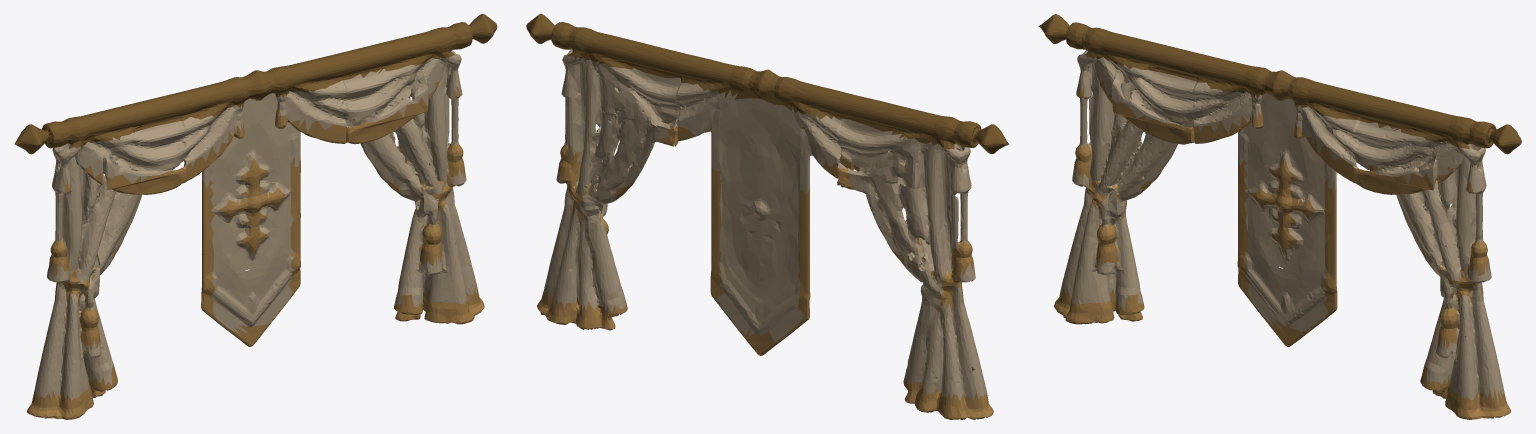
The model's file is cortina_branca.glb.
3 renders of one model, left to right at view 1: azimuth 30°, elevation 25°; view 2: azimuth 150°, elevation 25°; view 3: azimuth 330°, elevation 25°, orthographic.
Visible parts, largest first — view 1: tmpmqbah_ja.ply; view 2: tmpmqbah_ja.ply; view 3: tmpmqbah_ja.ply.
Part boxes in pixels (x1=…): tmpmqbah_ja.ply: x1=14, y1=14, x2=497, y2=419; tmpmqbah_ja.ply: x1=526, y1=14, x2=1009, y2=419; tmpmqbah_ja.ply: x1=1038, y1=14, x2=1521, y2=419.
Bounding box in the file's own units: 1.98 × 1.14 × 0.2081.
